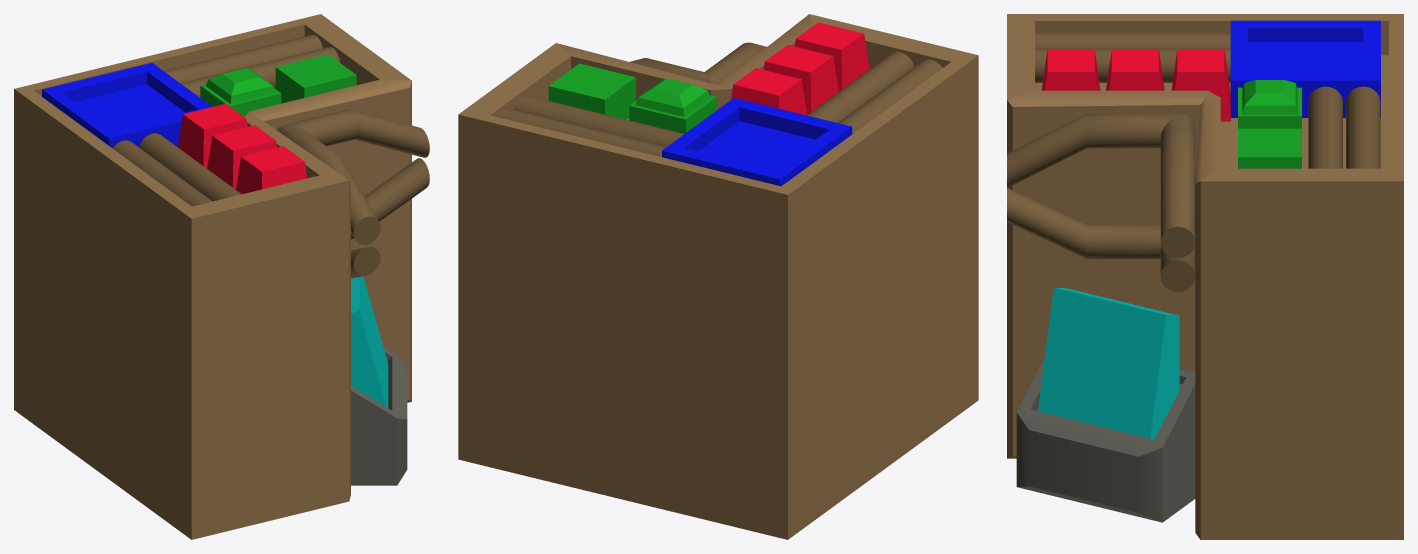
File: JT_WallCorner_Temp.fbx
3 renders of one model, left to right at view 1: azimuth 30°, elevation 25°; view 2: azimuth 150°, elevation 25°; view 3: azimuth 270°, elevation 25°, orthographic. The views are drawn at different scales.
Visible parts, largest first — view 1: JT_WallCorner_Temp; view 2: JT_WallCorner_Temp; view 3: JT_WallCorner_Temp.
Part boxes in pixels (x1,y1,x2,y2): JT_WallCorner_Temp: (14,14,429,539); JT_WallCorner_Temp: (458,14,978,539); JT_WallCorner_Temp: (1007,14,1403,539).
Bounding box in the file's own units: 1 × 1.05 × 1.
